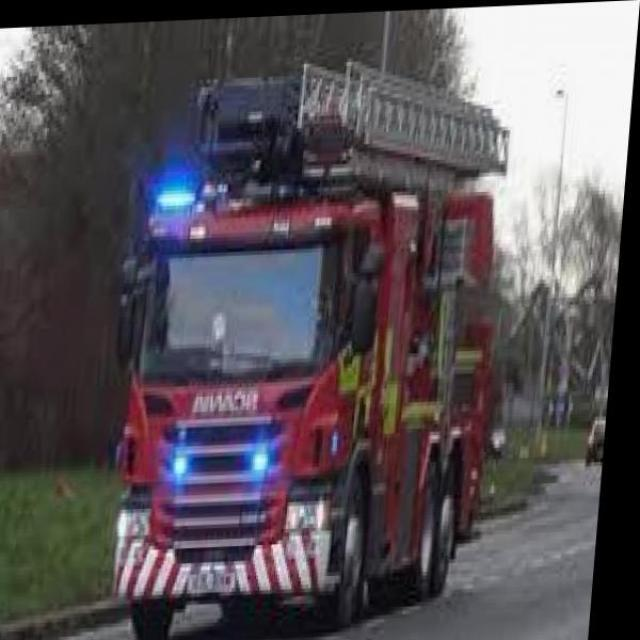emergency: (108, 62, 508, 636)
